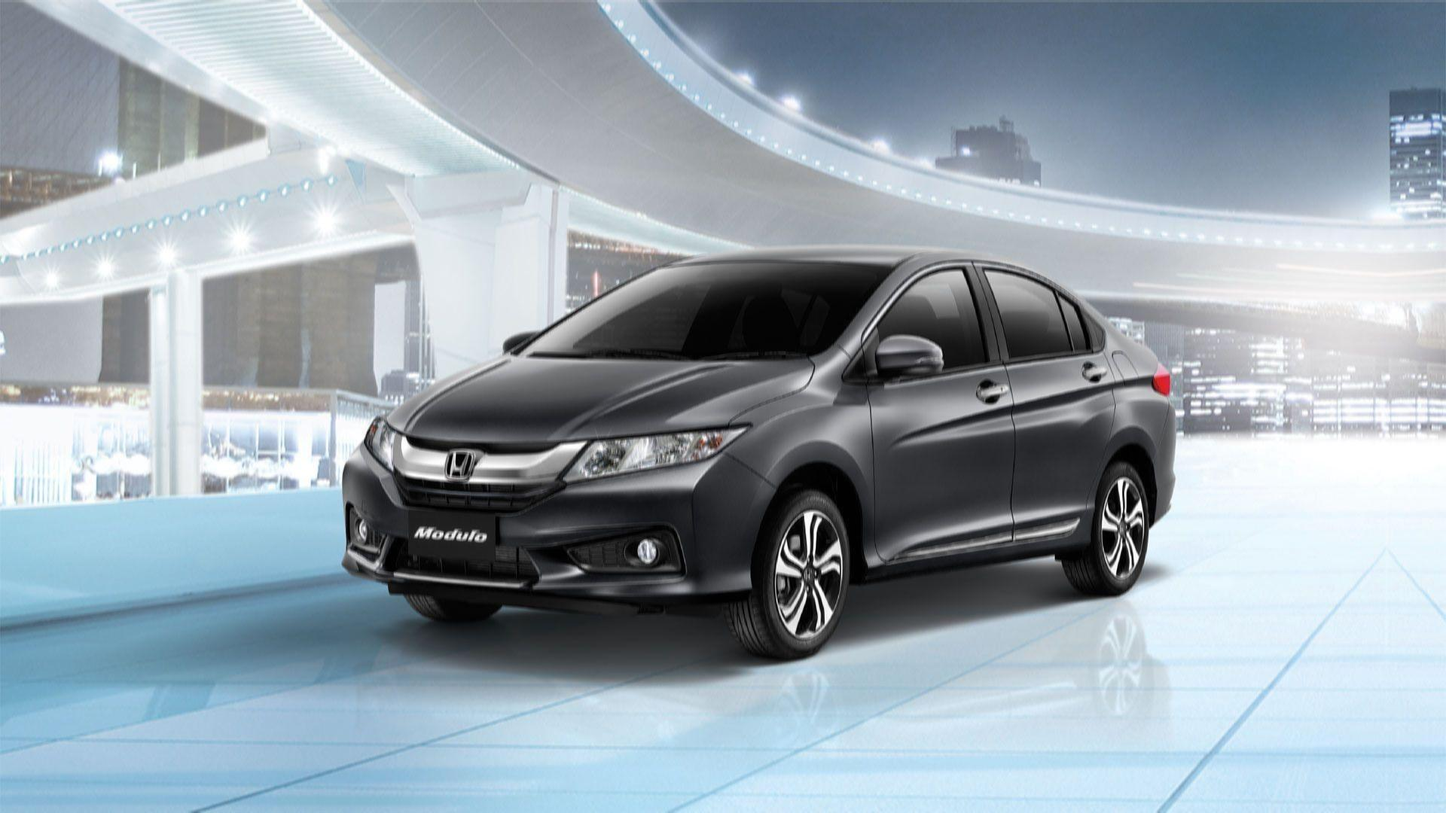Car hood: (380, 351, 818, 449)
Fender - -F-L-: (715, 343, 880, 575)
Fender - -R-L-: (1083, 304, 1171, 493)
Front bumper: (324, 456, 788, 604)
Headlight - -L-: (542, 419, 755, 483)
Headlight - -R-: (362, 415, 398, 481)
Passenger-s door - -F-L-: (840, 240, 1032, 583)
Passenger-s door - -R-L-: (969, 236, 1117, 577)
Rear light - -L-: (1146, 359, 1180, 404)
Side bumper - -L-: (833, 477, 1114, 608)
Side mirror - -L-: (856, 333, 954, 396)
